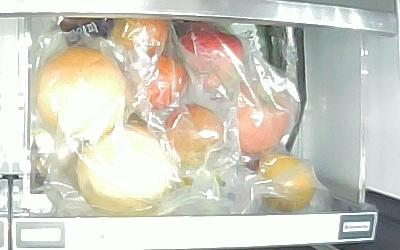apple: (233, 79, 293, 157), (176, 29, 243, 95)
grapefruit: (74, 119, 173, 214), (37, 46, 127, 140)
persimmon: (257, 154, 314, 210)
prune: (164, 103, 227, 171)
